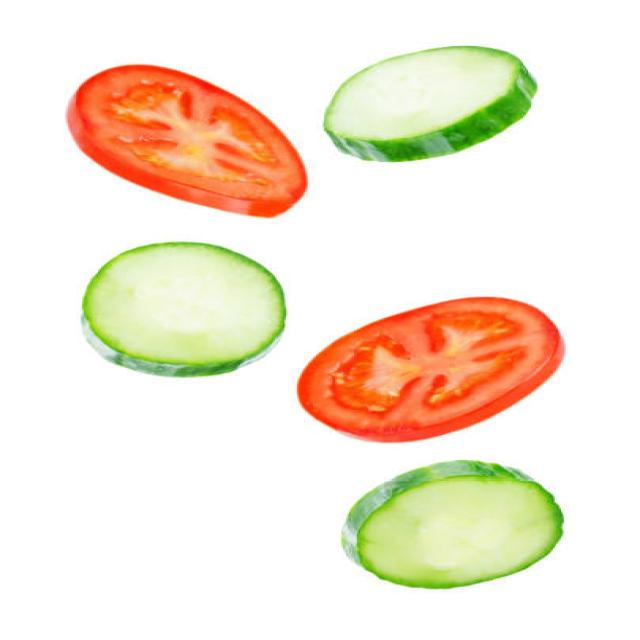Tomato: (58, 52, 324, 230), (299, 292, 563, 455)
